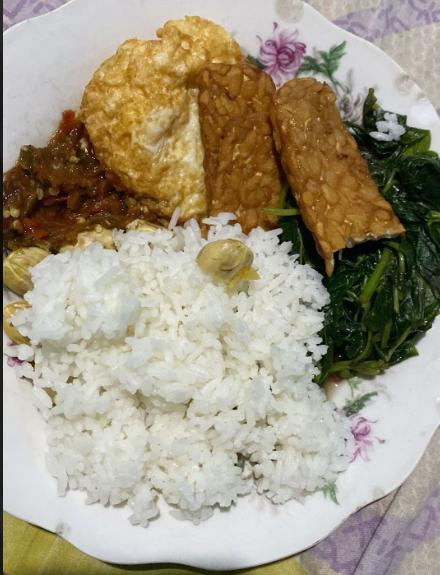buah_sayur_lainnya: (352, 258, 424, 342)
buah_sayur_vitA: (29, 155, 92, 236)
kacang_legume: (217, 86, 272, 203), (294, 136, 360, 211)
makanan_berpati: (58, 292, 312, 490)
telur: (119, 69, 191, 179)
